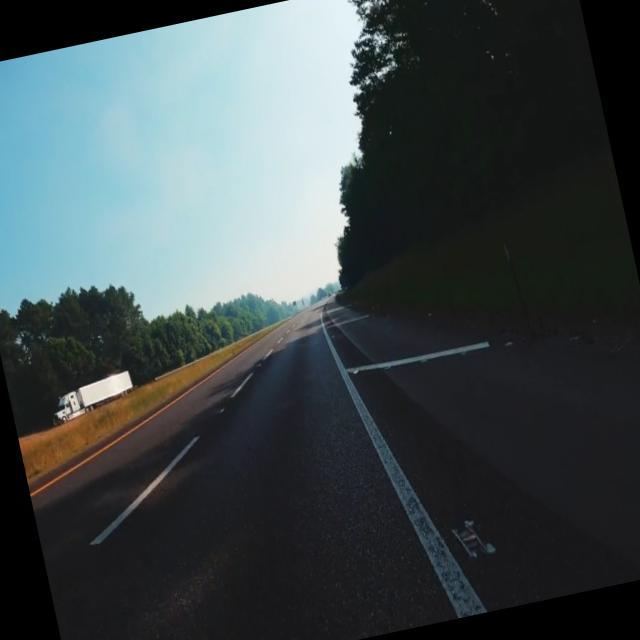asphalt: (31, 301, 640, 640)
grass: (347, 145, 640, 328), (18, 322, 282, 485)
